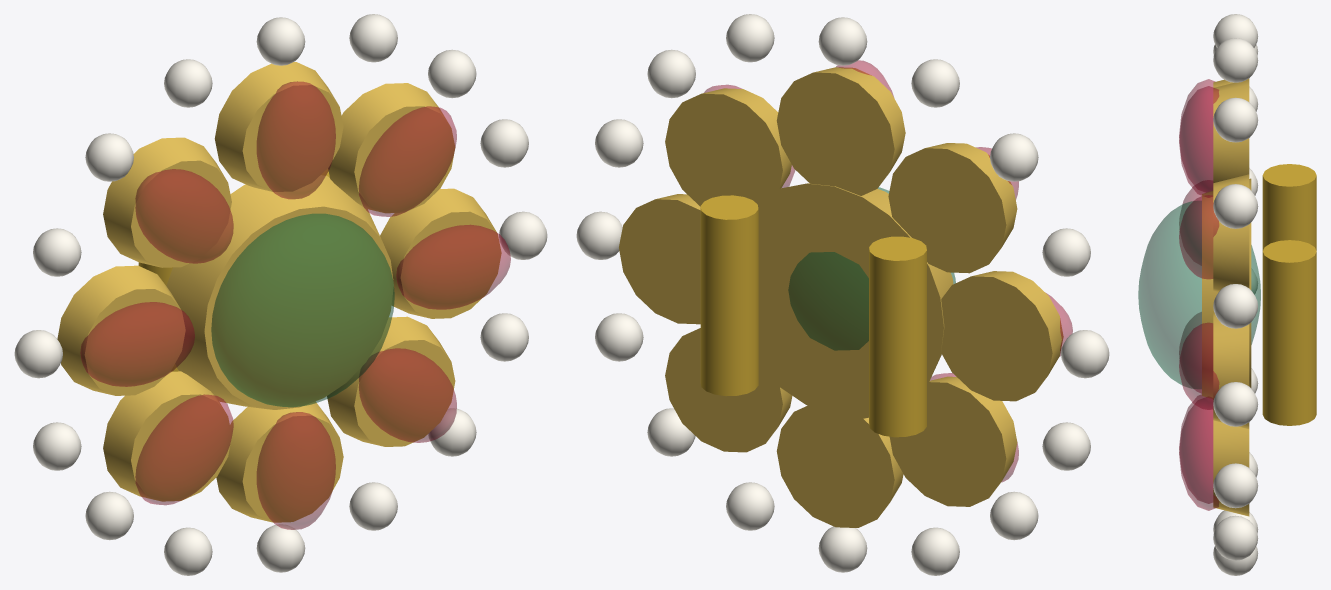
Rendered from floral-ruby-brooch.glb.
The picture shows the model from 3 angles, left to right: view 1: azimuth 30°, elevation 25°; view 2: azimuth 150°, elevation 25°; view 3: azimuth 270°, elevation 25°; orthographic projection. The views are drawn at different scales.
Visible parts, largest first — view 1: FloralRubyBrooch_32mm, Central_Emerald_Cabochon, Petal_Ruby_2, Petal_Ruby_6, Petal_Ruby_3, Petal_Ruby_7, Petal_Ruby_5, Petal_Ruby_1, Petal_Ruby_4, Petal_Ruby_8, SeedPearl_6, SeedPearl_14 (+14 smaller); view 2: FloralRubyBrooch_32mm, Central_Emerald_Cabochon, SeedPearl_6, SeedPearl_14, SeedPearl_7, SeedPearl_8, SeedPearl_16, SeedPearl_2, SeedPearl_10, SeedPearl_3, SeedPearl_4, SeedPearl_11 (+6 smaller); view 3: FloralRubyBrooch_32mm, Central_Emerald_Cabochon, Petal_Ruby_8, Petal_Ruby_3, Petal_Ruby_4, Petal_Ruby_7, Petal_Ruby_1, Petal_Ruby_2, SeedPearl_3, SeedPearl_1, SeedPearl_5, SeedPearl_2 (+8 smaller).
Boxes of the visible parts, bbox=[...] form: FloralRubyBrooch_32mm: bbox=[57, 62, 501, 522]; Central_Emerald_Cabochon: bbox=[211, 213, 394, 407]; Petal_Ruby_2: bbox=[359, 106, 456, 216]; Petal_Ruby_6: bbox=[135, 394, 233, 505]; Petal_Ruby_3: bbox=[256, 81, 335, 199]; Petal_Ruby_7: bbox=[256, 412, 335, 529]; Petal_Ruby_5: bbox=[80, 302, 194, 386]; Petal_Ruby_1: bbox=[396, 224, 510, 309]; Petal_Ruby_4: bbox=[135, 169, 233, 263]; Petal_Ruby_8: bbox=[359, 348, 456, 442]; SeedPearl_6: bbox=[164, 59, 212, 107]; SeedPearl_14: bbox=[349, 482, 397, 530]; FloralRubyBrooch_32mm: bbox=[619, 67, 1063, 527]; Central_Emerald_Cabochon: bbox=[788, 187, 955, 350]; SeedPearl_6: bbox=[911, 59, 959, 107]; SeedPearl_14: bbox=[726, 482, 774, 530]; SeedPearl_7: bbox=[990, 133, 1038, 181]; SeedPearl_8: bbox=[1042, 228, 1090, 276]; SeedPearl_16: bbox=[595, 313, 643, 361]; SeedPearl_2: bbox=[595, 119, 643, 167]; SeedPearl_10: bbox=[1042, 422, 1090, 470]; SeedPearl_3: bbox=[647, 49, 695, 98]; SeedPearl_4: bbox=[726, 14, 774, 62]; SeedPearl_11: bbox=[990, 491, 1038, 540]; FloralRubyBrooch_32mm: bbox=[1202, 78, 1316, 516]; Central_Emerald_Cabochon: bbox=[1138, 201, 1260, 388]; Petal_Ruby_8: bbox=[1179, 396, 1219, 510]; Petal_Ruby_3: bbox=[1179, 86, 1219, 197]; Petal_Ruby_4: bbox=[1179, 79, 1215, 192]; Petal_Ruby_7: bbox=[1179, 395, 1212, 503]; Petal_Ruby_1: bbox=[1179, 322, 1219, 409]; Petal_Ruby_2: bbox=[1179, 195, 1219, 279]; SeedPearl_3: bbox=[1213, 184, 1258, 228]; SeedPearl_1: bbox=[1213, 382, 1258, 426]; SeedPearl_5: bbox=[1213, 38, 1258, 82]; SeedPearl_2: bbox=[1213, 284, 1258, 328].
Size of the model in its own units: 0.25 by 0.25 by 0.0793.
